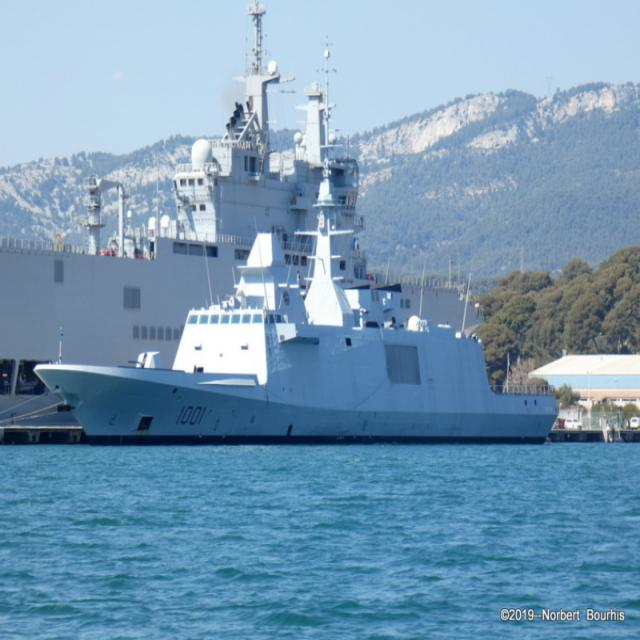Fragata: (31, 159, 571, 451)
